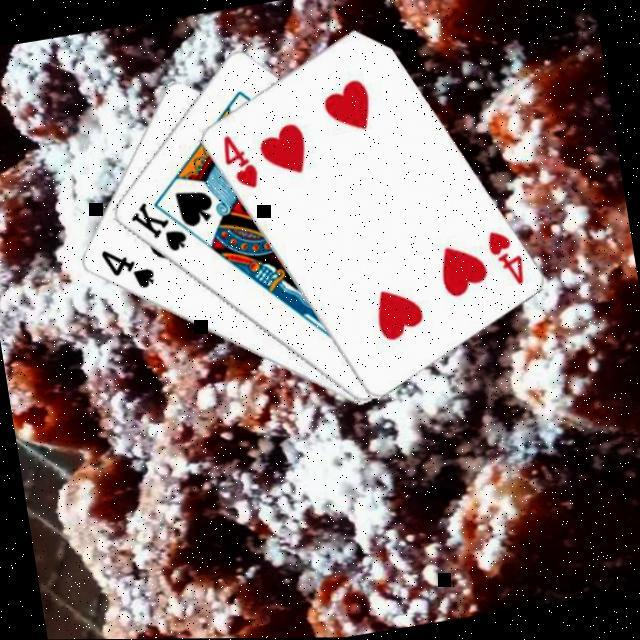4H: (481, 227, 526, 294), (216, 130, 260, 198)
4S: (96, 242, 156, 300)
KS: (122, 196, 190, 264)
